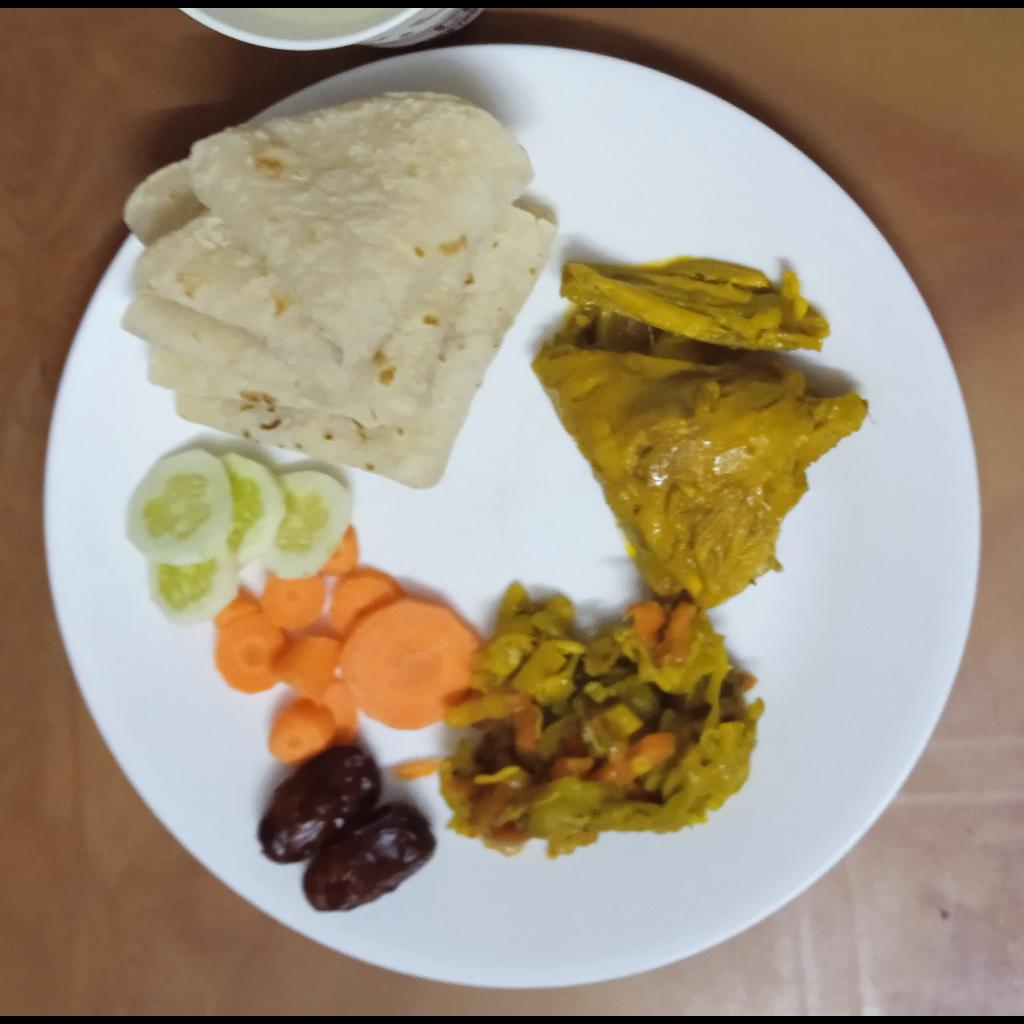carrot: (216, 529, 486, 768)
chicken: (530, 257, 868, 612)
cucumber: (127, 448, 353, 629)
dates: (260, 748, 437, 913)
ruti: (121, 92, 557, 489)
vegetable: (439, 580, 765, 859)
